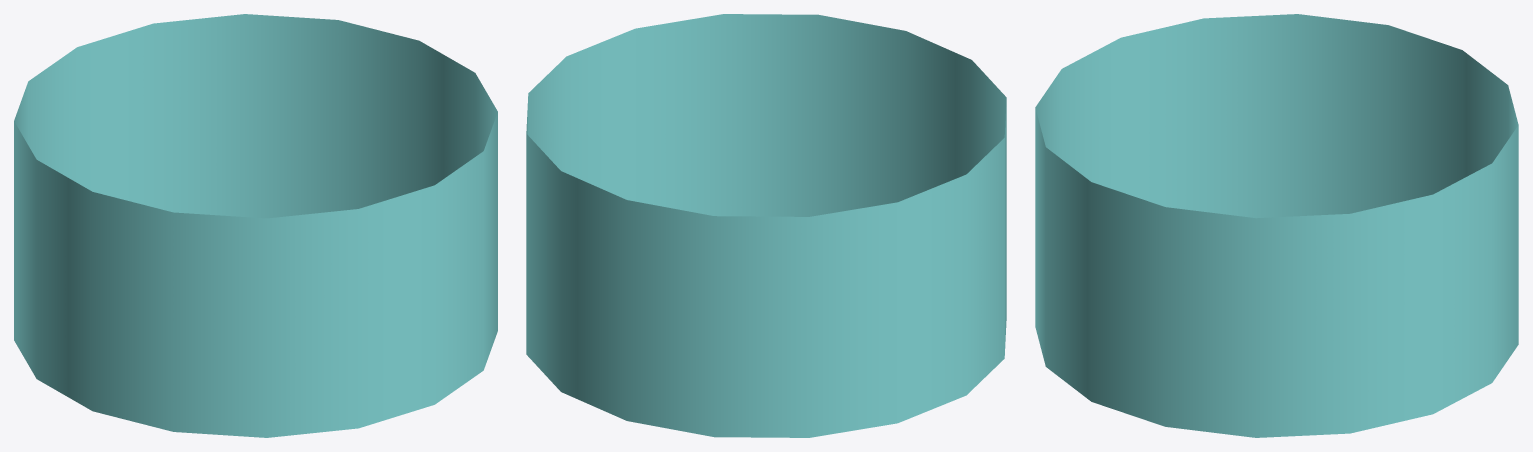
Rendered from original-12.obj.
3 renders of one model, left to right at view 1: azimuth 30°, elevation 25°; view 2: azimuth 150°, elevation 25°; view 3: azimuth 270°, elevation 25°, orthographic.
Visible parts, largest first — view 1: #ID51; view 2: #ID51; view 3: #ID51.
Boxes of the visible parts, bbox=[...] form: #ID51: bbox=[14, 14, 497, 437]; #ID51: bbox=[526, 14, 1006, 437]; #ID51: bbox=[1035, 14, 1518, 437].
Size of the model in its own units: 0.2331 by 0.117 by 0.2331.
